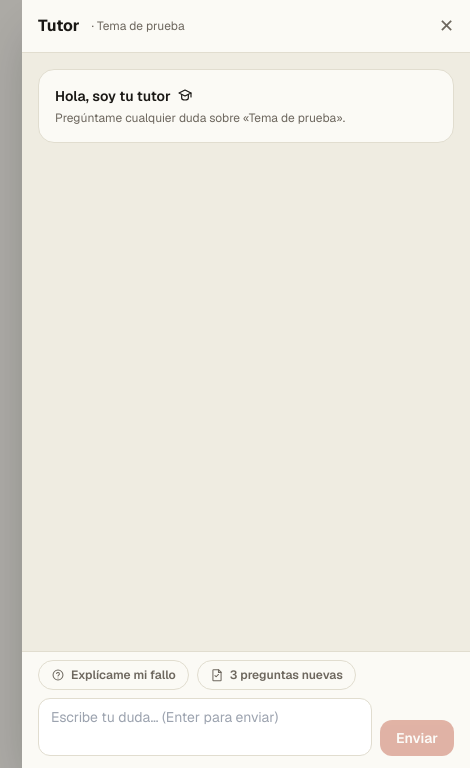
Test case: TutorPanel › envía la pregunta y muestra la respuesta
Type "¿qué es?" into the text box with placeholder "Escribe tu duda… (Enter para enviar)" at (205, 727), box [38,698,372,756]
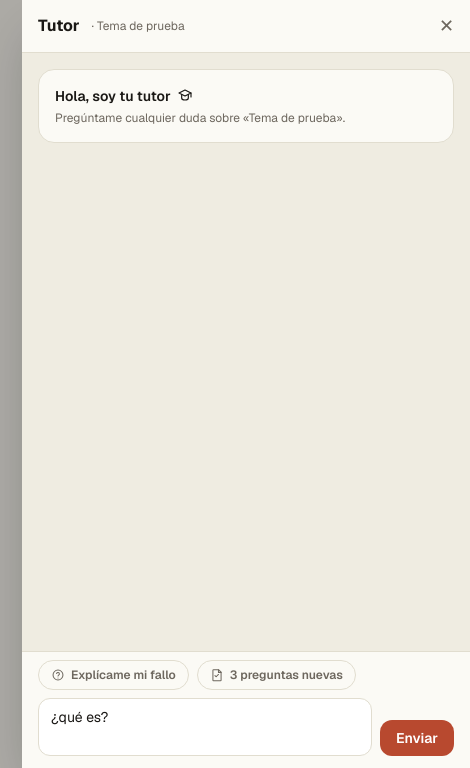
Click the button "Enviar" at (417, 738), box [380,720,454,756]
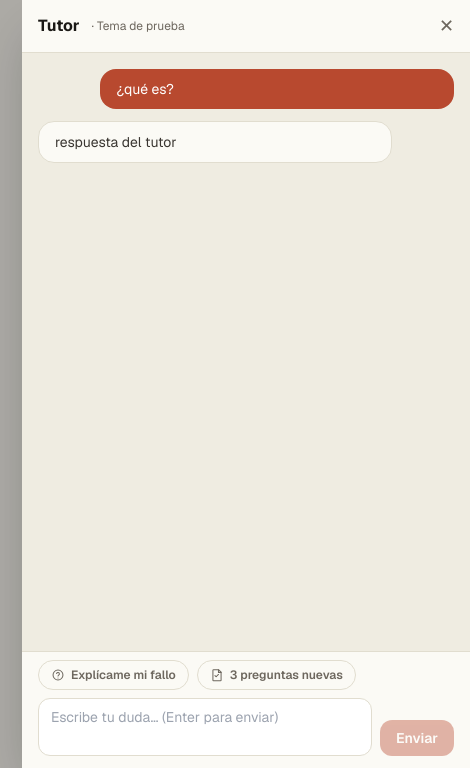
Result: the text "respuesta del tutor" is shown at [38,121,392,163]
